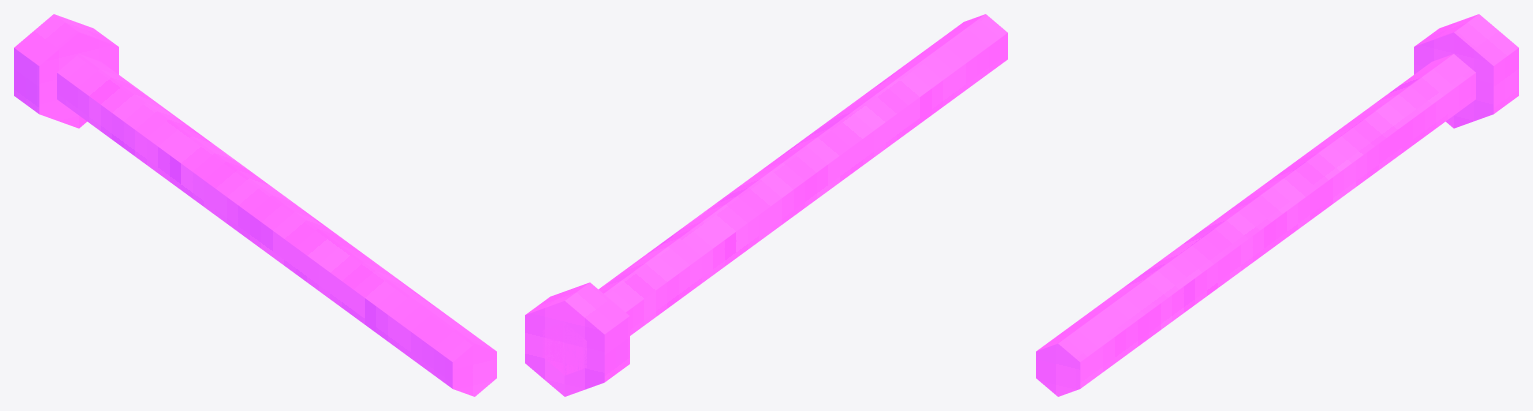
Rendered from fx_beam_l.glb.
3 views of the same model, side by side, from view 1: azimuth 30°, elevation 25°; view 2: azimuth 150°, elevation 25°; view 3: azimuth 330°, elevation 25° (orthographic).
Parts seen in each view (by area): view 1: fx_beam_l; view 2: fx_beam_l; view 3: fx_beam_l.
Boxes of the visible parts, x1,y1,x2,y2 form: fx_beam_l: [14, 14, 496, 396]; fx_beam_l: [525, 14, 1007, 396]; fx_beam_l: [1036, 14, 1518, 396].
Bounding box in the file's own units: 0.1091 × 0.126 × 1.
Materials: 1 (1 with a texture image).
